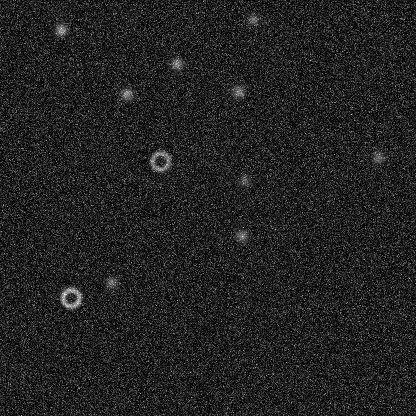Ring: (58, 285, 82, 309), (148, 149, 172, 173)
Spot: (103, 274, 119, 290), (370, 149, 386, 165), (233, 227, 249, 243), (230, 83, 246, 99), (236, 172, 252, 188), (52, 21, 68, 37), (244, 11, 260, 27), (118, 86, 134, 102), (168, 55, 184, 71)
